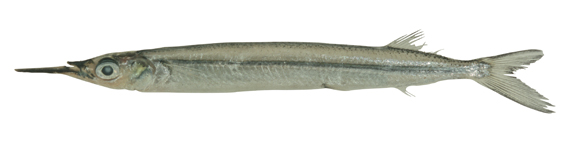fish: (14, 28, 556, 115)
